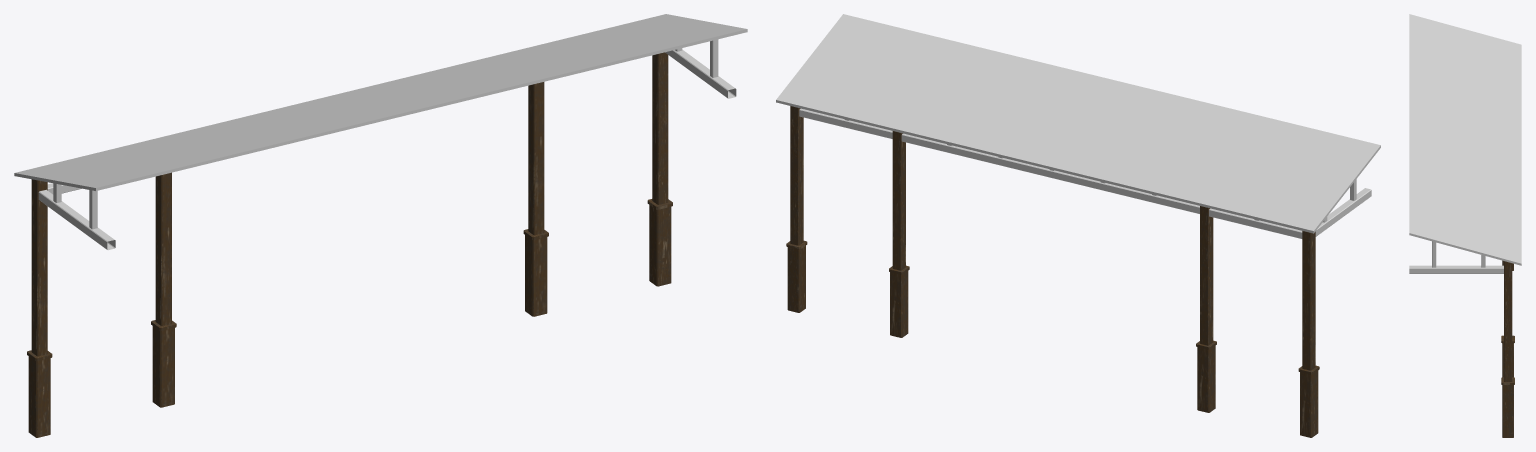
File: Deck Roof.fbx
3 views of the same model, side by side, from view 1: azimuth 30°, elevation 25°; view 2: azimuth 150°, elevation 25°; view 3: azimuth 270°, elevation 25° (orthographic). The views are drawn at different scales.
Visible parts, largest first — view 1: Cube.066, Cube.063, Cube.064, Cube.071, Cube.065, Cube.062, Cube.061; view 2: Cube.066, Cube.063, Cube.064, Cube.071, Cube.061, Cube.065, Cube.062; view 3: Cube.063, Cube.066, Cube.064, Cube.061, Cube.065.
Boxes of the visible parts, bbox=[...] form: Cube.066: bbox=[14, 108, 359, 250]; Cube.063: bbox=[403, 14, 747, 98]; Cube.064: bbox=[279, 78, 483, 126]; Cube.071: bbox=[27, 179, 52, 437]; Cube.065: bbox=[523, 82, 548, 316]; Cube.062: bbox=[151, 172, 176, 407]; Cube.061: bbox=[647, 52, 672, 286]; Cube.066: bbox=[1096, 92, 1380, 238]; Cube.063: bbox=[776, 14, 1060, 165]; Cube.064: bbox=[993, 67, 1162, 190]; Cube.071: bbox=[1298, 231, 1319, 437]; Cube.061: bbox=[786, 106, 807, 312]; Cube.065: bbox=[889, 131, 909, 337]; Cube.062: bbox=[1196, 206, 1216, 412]; Cube.063: bbox=[1409, 144, 1521, 273]; Cube.066: bbox=[1409, 14, 1521, 133]; Cube.064: bbox=[1409, 102, 1521, 174]; Cube.061: bbox=[1501, 261, 1514, 437]; Cube.065: bbox=[1501, 335, 1514, 377].
Size of the model in its own units: 1050 by 464 by 227.
